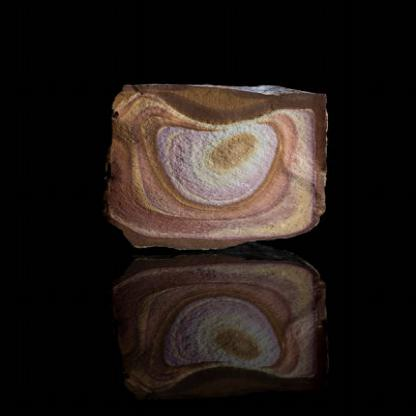Sedimentary_Sandstone: (95, 73, 344, 245)
